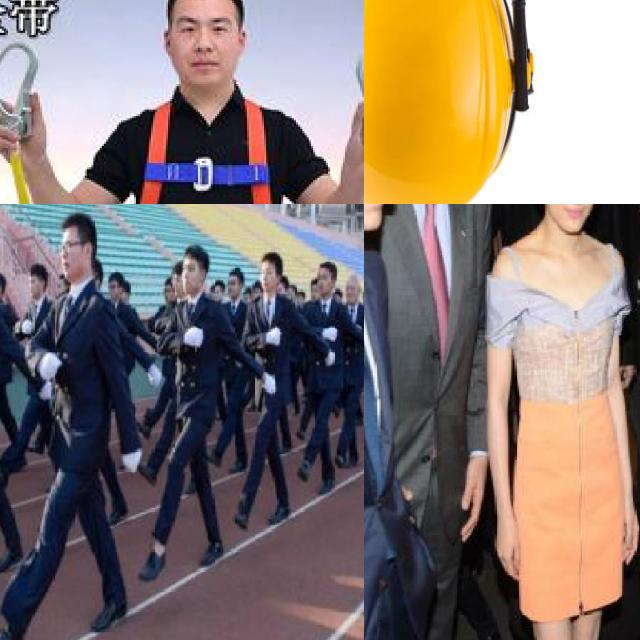Ear-protection: (364, 0, 548, 204)
Harness: (121, 94, 287, 204)
No_Glasses: (175, 15, 235, 40)
face_nomask: (57, 239, 91, 285), (554, 204, 599, 232), (180, 263, 202, 294), (257, 265, 274, 292)
hand_glove: (37, 344, 62, 381), (266, 322, 284, 351), (185, 323, 203, 352), (123, 445, 142, 472), (262, 367, 280, 392), (38, 379, 56, 400), (148, 362, 162, 388), (323, 323, 339, 339), (325, 349, 337, 365), (23, 316, 34, 330)
hand_noglove: (459, 458, 485, 542), (493, 518, 522, 582), (622, 500, 640, 564)
head_nohelmet: (60, 204, 98, 234), (22, 260, 48, 282), (182, 251, 208, 266), (260, 256, 279, 274), (322, 262, 336, 277)
person: (491, 204, 638, 640), (373, 204, 507, 640), (45, 204, 148, 640), (152, 240, 225, 585), (364, 204, 413, 640), (245, 239, 297, 543), (299, 254, 354, 499), (0, 231, 29, 592)
shoes: (86, 596, 137, 631), (130, 545, 170, 583), (192, 536, 231, 570), (229, 504, 261, 536), (0, 544, 27, 571), (290, 461, 316, 486), (268, 502, 292, 528), (0, 618, 28, 640)
